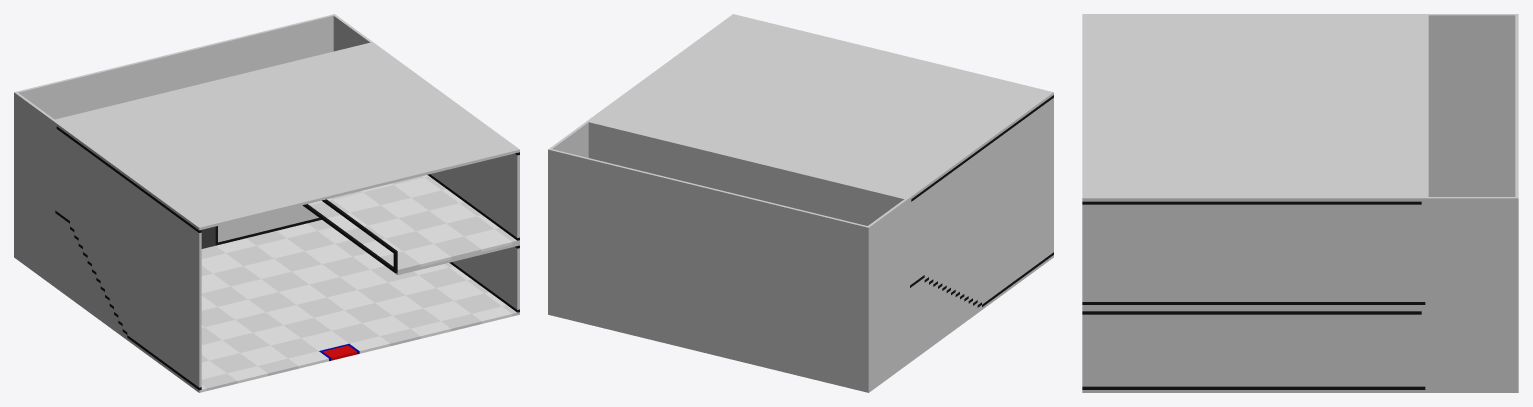
File: sceneseria.glb
The picture shows the model from 3 angles, left to right: view 1: azimuth 30°, elevation 25°; view 2: azimuth 150°, elevation 25°; view 3: azimuth 270°, elevation 25°; orthographic projection. The views are drawn at different scales.
Parts seen in each view (by area): view 1: node_id3; view 2: node_id3; view 3: node_id3.
Part boxes in pixels (x1=…): node_id3: x1=14, y1=14, x2=519, y2=392; node_id3: x1=548, y1=14, x2=1053, y2=392; node_id3: x1=1082, y1=14, x2=1518, y2=392.
Size of the model in its own units: 0.512 by 0.2519 by 0.512.
Materials: 1 (1 with a texture image).
